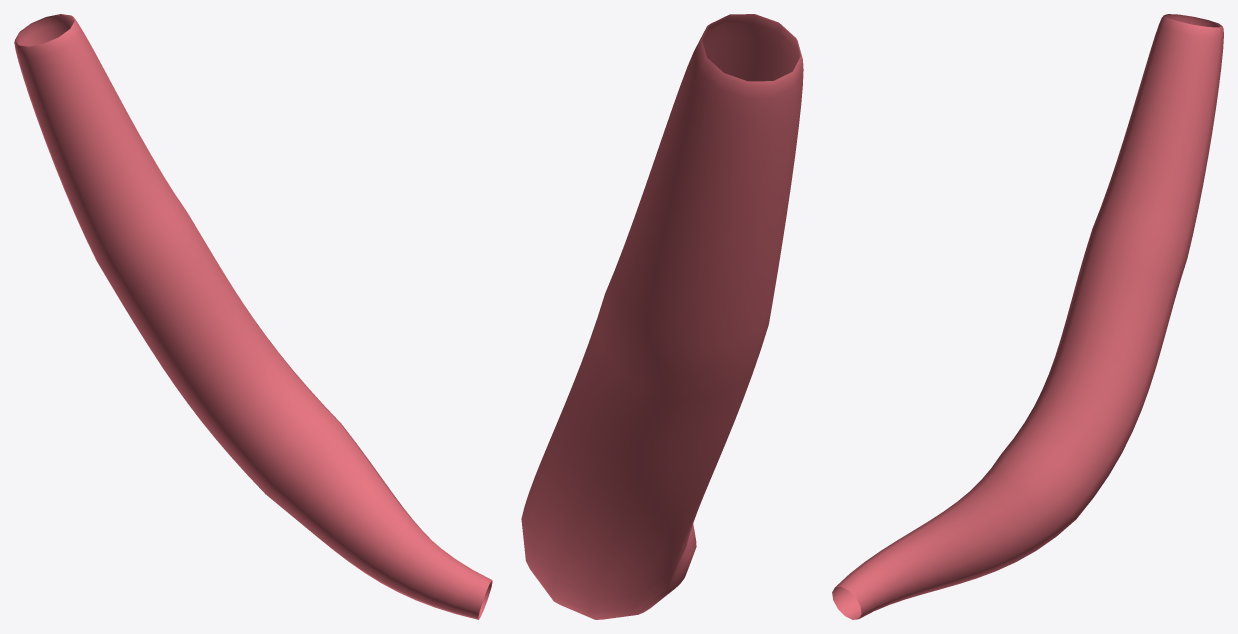
3 renders of one model, left to right at view 1: azimuth 30°, elevation 25°; view 2: azimuth 150°, elevation 25°; view 3: azimuth 270°, elevation 25°, orthographic. The views are drawn at different scales.
Visible parts, largest first — view 1: ZA_c967e13d729ed5f1; view 2: ZA_c967e13d729ed5f1; view 3: ZA_c967e13d729ed5f1.
Boxes of the visible parts, x1,y1,x2,y2 form: ZA_c967e13d729ed5f1: (14, 14, 492, 619); ZA_c967e13d729ed5f1: (521, 14, 803, 619); ZA_c967e13d729ed5f1: (832, 14, 1223, 619).
Size of the model in its own units: 0.0161 by 0.0273 by 0.0197.
